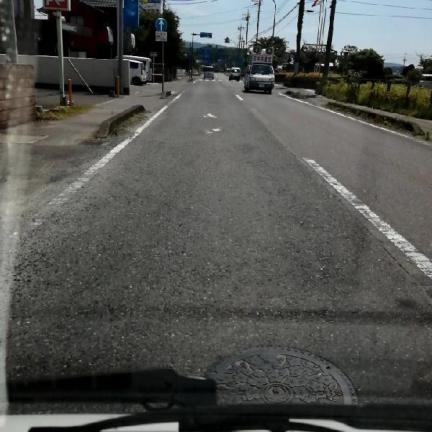Road: (7, 75, 431, 402)
